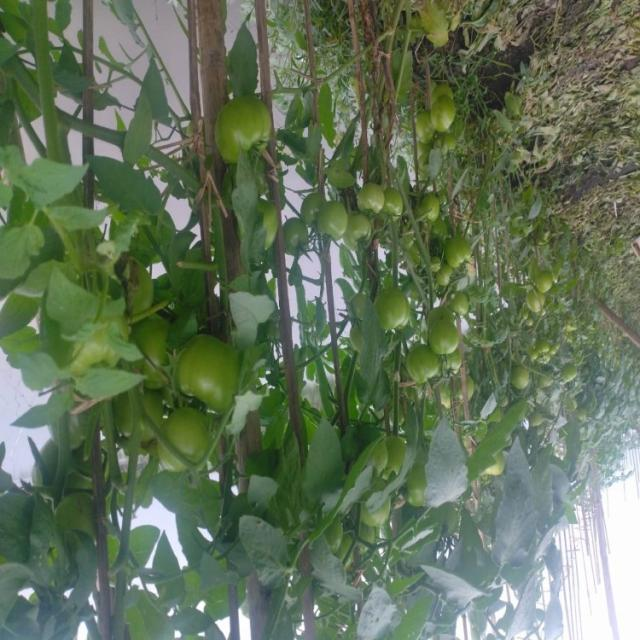tomato: (174, 331, 250, 418), (127, 316, 186, 398), (153, 408, 214, 478), (213, 97, 277, 158), (313, 195, 350, 251), (426, 311, 465, 364), (378, 288, 418, 335), (431, 101, 465, 148), (406, 353, 446, 387), (348, 213, 381, 254), (360, 183, 391, 222), (443, 236, 475, 273), (412, 191, 443, 227), (281, 225, 307, 265), (383, 186, 409, 221), (509, 365, 538, 396), (535, 270, 559, 300), (431, 261, 454, 292), (414, 119, 435, 150), (522, 292, 548, 314)
